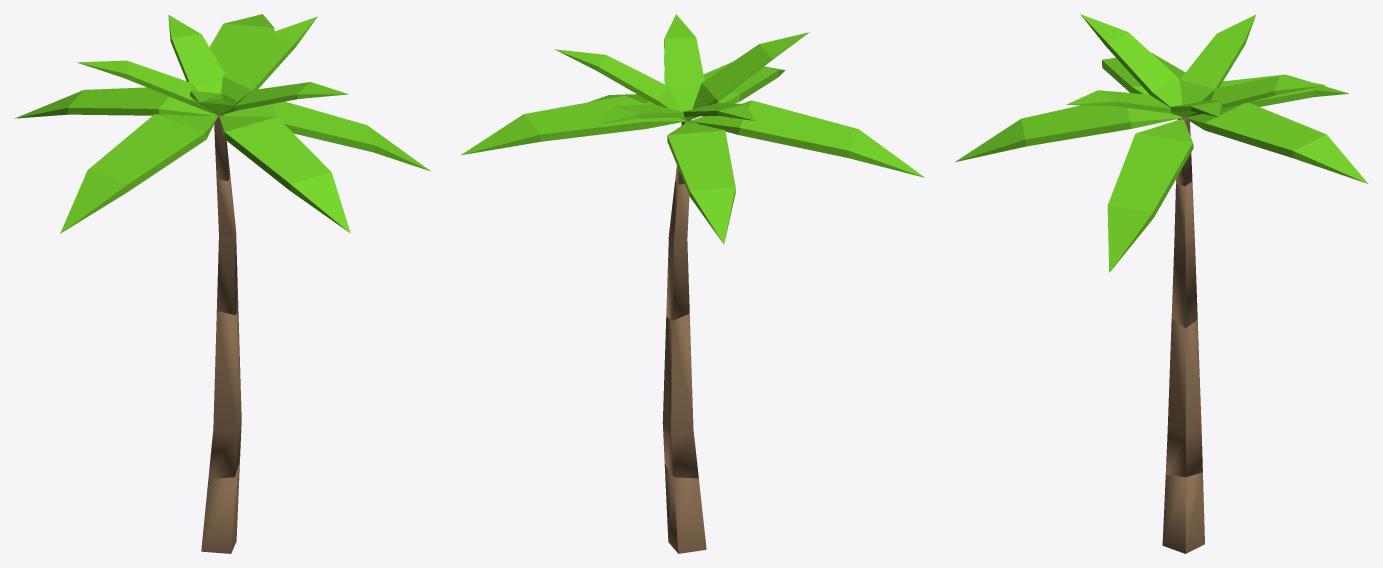
Rendered from palm_cut.fbx.
3 renders of one model, left to right at view 1: azimuth 30°, elevation 25°; view 2: azimuth 150°, elevation 25°; view 3: azimuth 270°, elevation 25°, orthographic.
Visible parts, largest first — view 1: Palm_leaves, Palm_trunk01, Palm_stump, Palm_trunk02; view 2: Palm_leaves, Palm_trunk01, Palm_stump, Palm_trunk02; view 3: Palm_leaves, Palm_trunk01, Palm_trunk02, Palm_stump.
Boxes of the visible parts, bbox=[...] form: Palm_leaves: bbox=[15, 14, 430, 233]; Palm_trunk01: bbox=[208, 311, 241, 478]; Palm_stump: bbox=[201, 462, 239, 553]; Palm_trunk02: bbox=[216, 176, 238, 314]; Palm_leaves: bbox=[461, 14, 924, 244]; Palm_trunk01: bbox=[662, 314, 698, 478]; Palm_stump: bbox=[664, 464, 706, 553]; Palm_trunk02: bbox=[666, 181, 689, 320]; Palm_leaves: bbox=[955, 14, 1368, 272]; Palm_trunk01: bbox=[1165, 318, 1202, 477]; Palm_trunk02: bbox=[1171, 181, 1197, 328]; Palm_stump: bbox=[1162, 472, 1204, 553].
Bounding box in the file's own units: 411 × 523 × 396.
